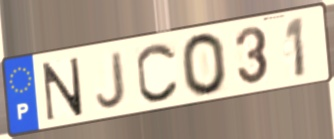1: (281, 14, 308, 82)
3: (233, 25, 269, 88)
C: (134, 41, 181, 104)
J: (94, 48, 127, 111)
N: (40, 55, 85, 124)
O: (178, 31, 230, 98)
